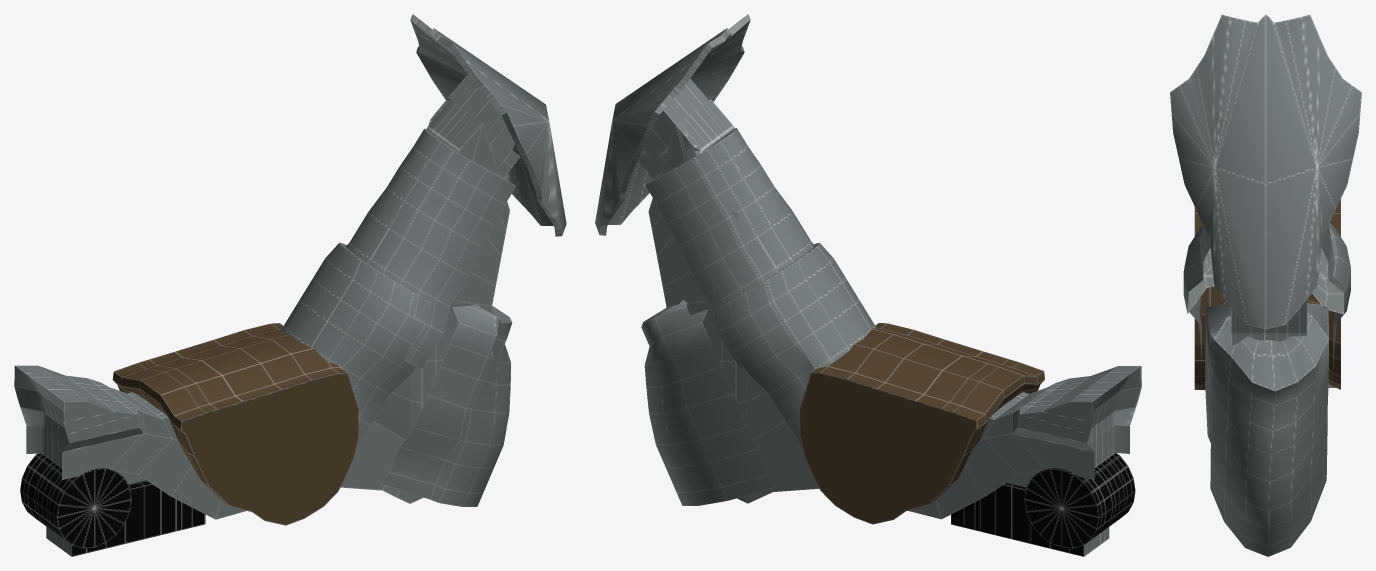
The model's file is horse.fbx.
The picture shows the model from 3 angles, left to right: view 1: azimuth 30°, elevation 25°; view 2: azimuth 150°, elevation 25°; view 3: azimuth 270°, elevation 25°; orthographic projection. The views are drawn at different scales.
Parts seen in each view (by area): view 1: polySurface16; view 2: polySurface16; view 3: polySurface16.
Part boxes in pixels (x1,y1,x2,y2): polySurface16: [14, 14, 566, 556]; polySurface16: [595, 14, 1141, 556]; polySurface16: [1170, 14, 1361, 556].
Bounding box in the file's own units: 4.1 × 3.61 × 1.21.
